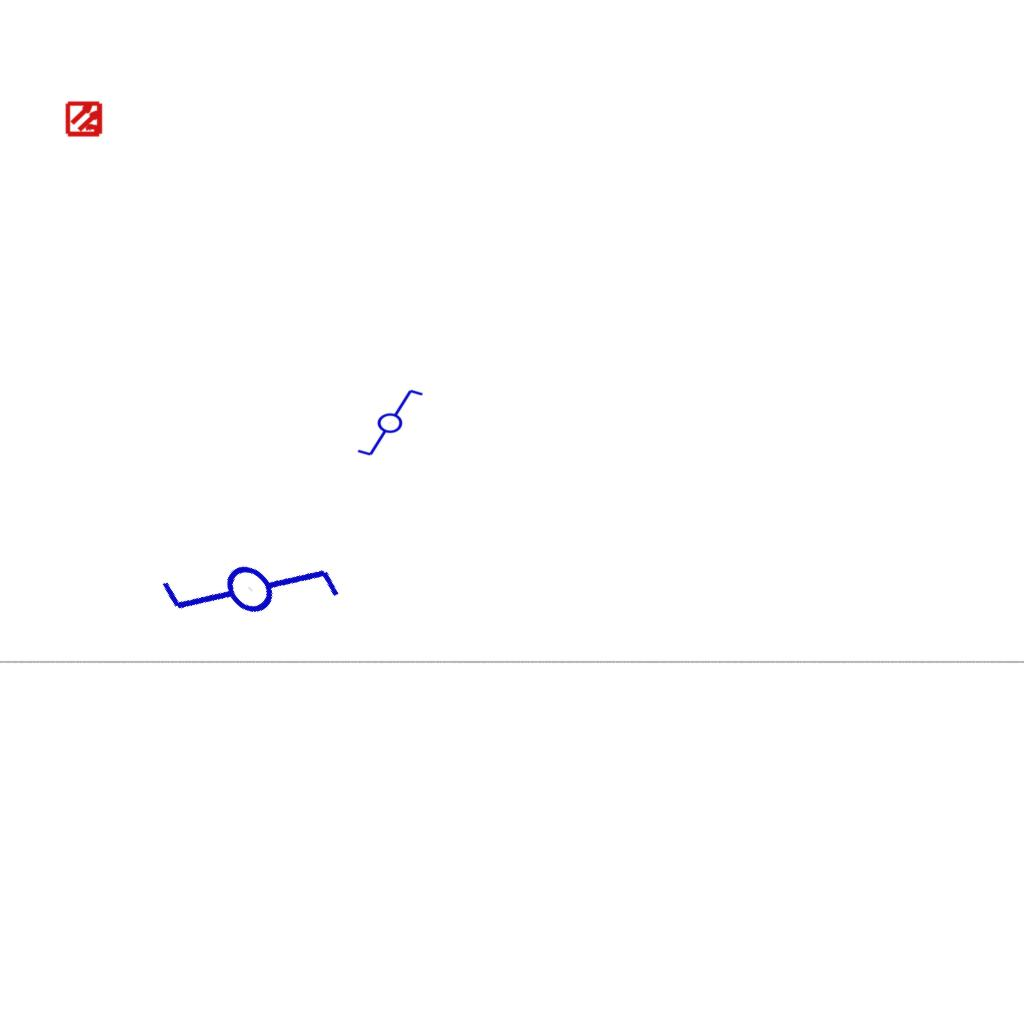OT_Multisensormelder_(Kombination_RMO_WMD): (57, 91, 113, 147)
Wechselschalter: (139, 475, 352, 689), (347, 386, 425, 458)
